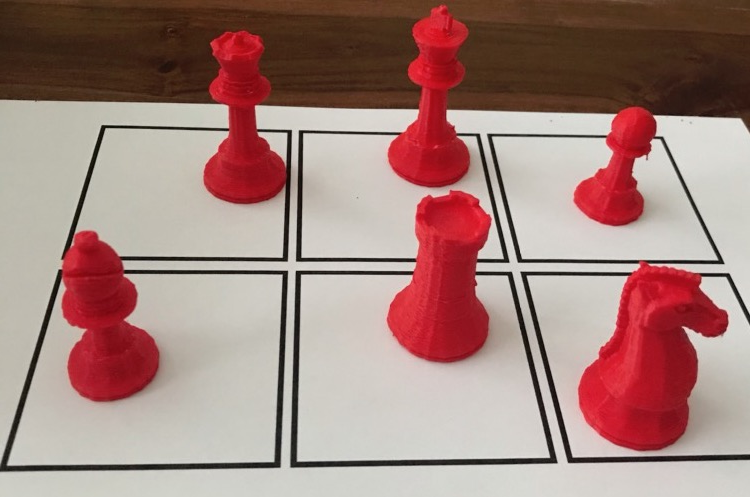Red Bishop: (42, 226, 168, 405)
Red Castle: (374, 187, 508, 372)
Red King: (386, 1, 479, 190)
Red Knight: (568, 250, 732, 464)
Red Pawn: (568, 107, 659, 236)
Red Queen: (184, 25, 309, 211)
